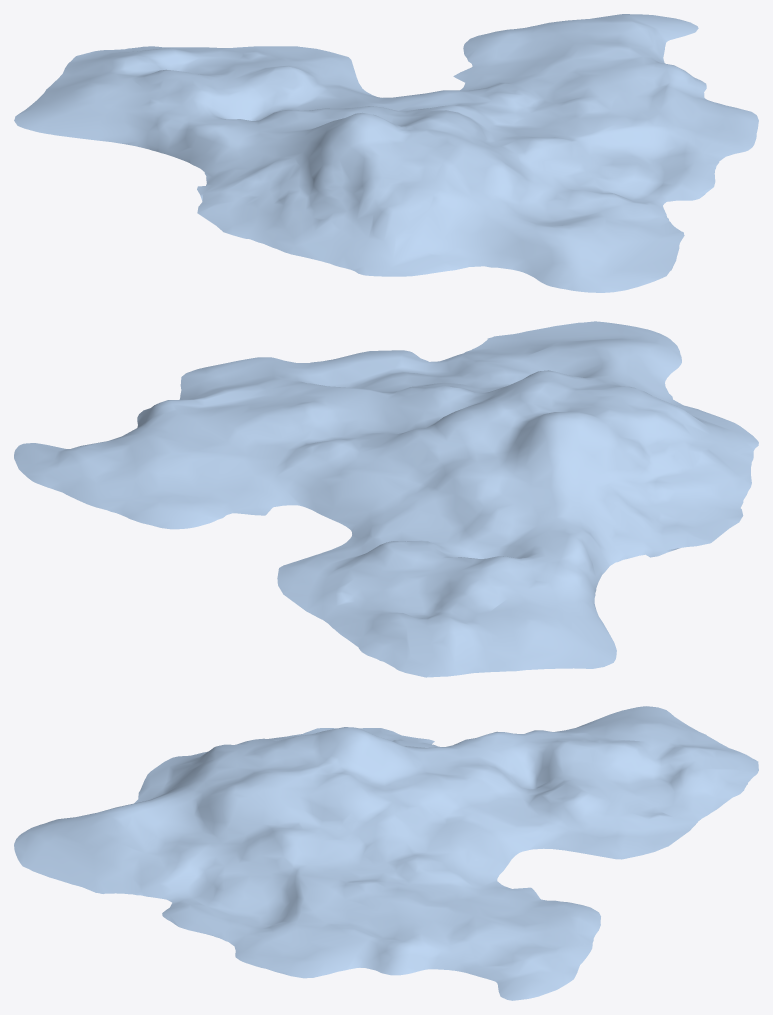
Rendered from IcePatchLarge_03_Bumpy.fbx.
3 views of the same model, one above another, from view 1: azimuth 30°, elevation 25°; view 2: azimuth 150°, elevation 25°; view 3: azimuth 270°, elevation 25° (orthographic). The views are drawn at different scales.
Parts seen in each view (by area): view 1: IcePatchLarge_03_Bumpy.001; view 2: IcePatchLarge_03_Bumpy.001; view 3: IcePatchLarge_03_Bumpy.001.
Part boxes in pixels (x1,y1,x2,y2): IcePatchLarge_03_Bumpy.001: (14, 14, 758, 292); IcePatchLarge_03_Bumpy.001: (14, 321, 758, 677); IcePatchLarge_03_Bumpy.001: (14, 706, 758, 1000).
Size of the model in its own units: 4.99 by 0.5449 by 5.33.
